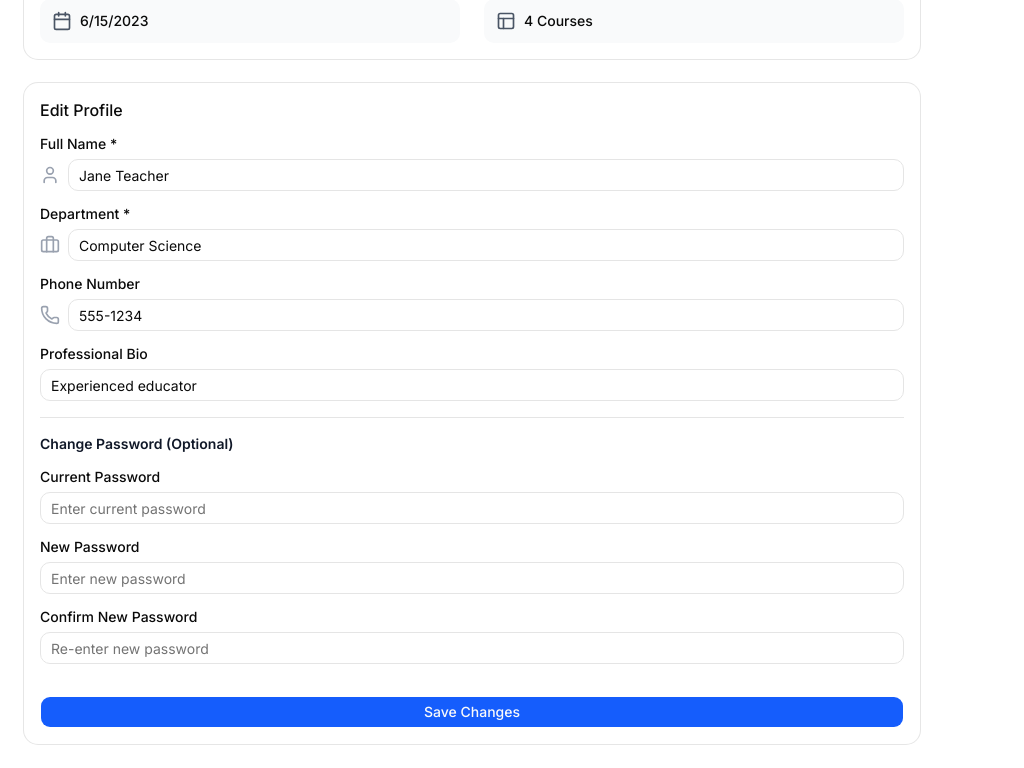
Test case: Teacher Profile Page - Form Validation (10.4) › shows error when new password set without current password
(page scrolled)
Expected: the field showing "Jane Teacher" is shown, [68,159,904,191]
In the password field labelled "New Password": (472,578) [40,562,904,594], type "newpass1"
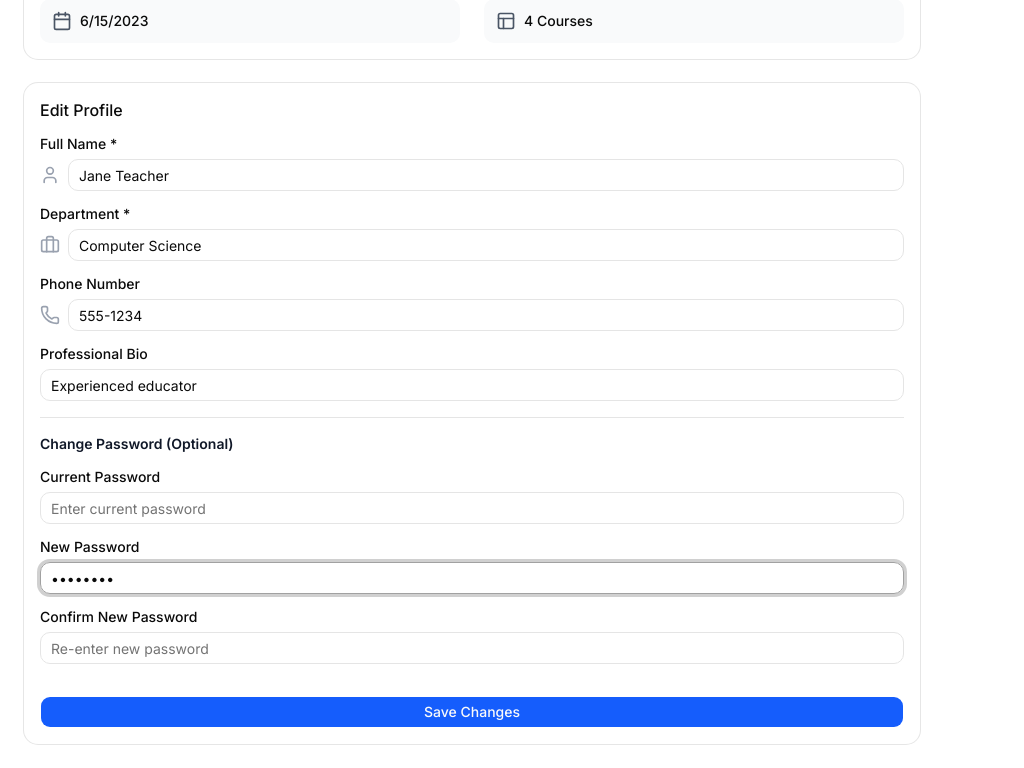
In the password field labelled "Confirm New Password": (472,648) [40,632,904,664], type "newpass1"
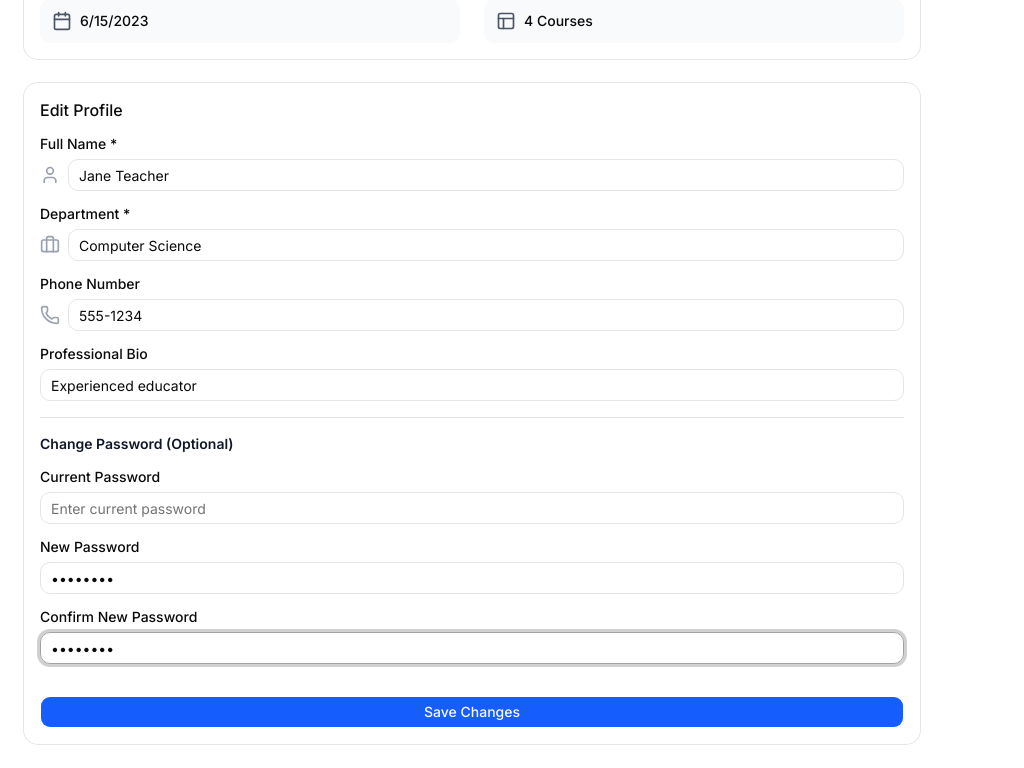
Submit the form named "save changes"
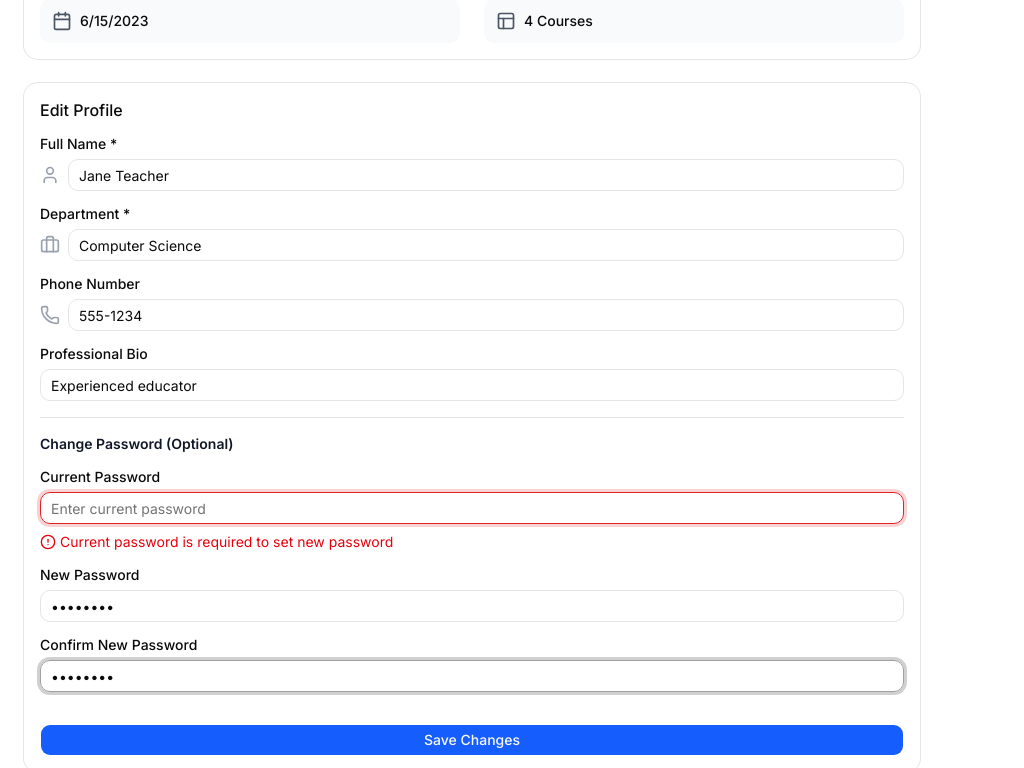
Result: the text "Current password is required to set new password" is shown at [40,533,393,550]
